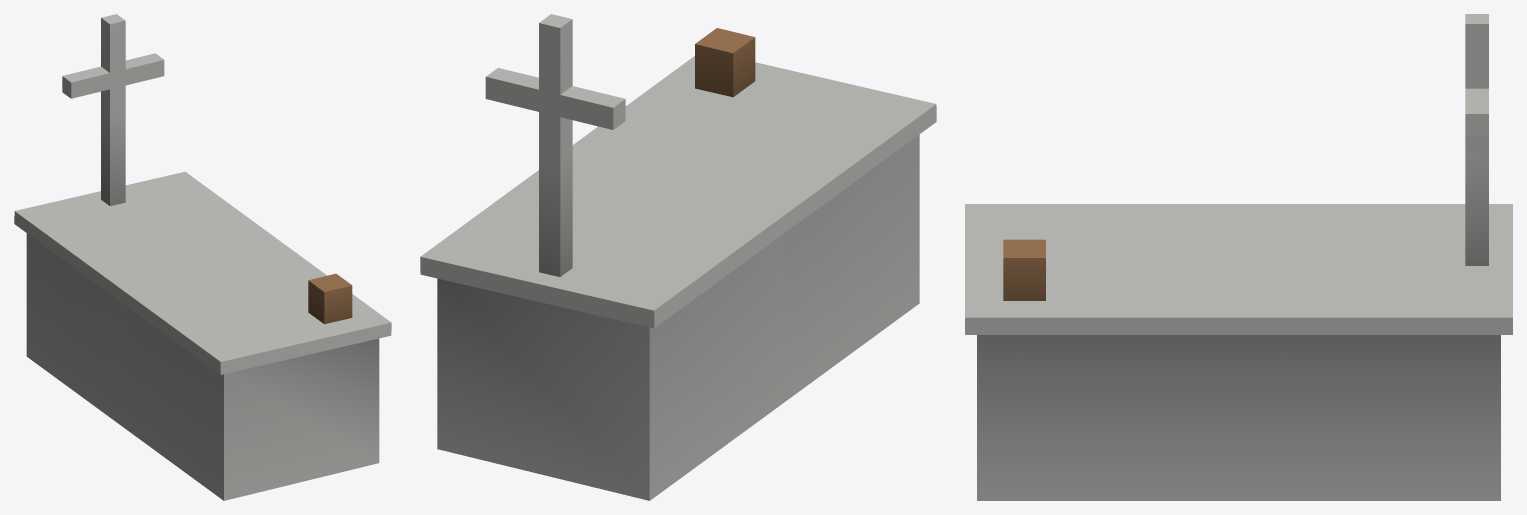
Rendered from tumulo_1.glb.
3 views of the same model, side by side, from view 1: azimuth 30°, elevation 25°; view 2: azimuth 150°, elevation 25°; view 3: azimuth 270°, elevation 25° (orthographic). The views are drawn at different scales.
Parts seen in each view (by area): view 1: tumulo, tampa, cruz, vaso; view 2: tumulo, tampa, cruz, vaso; view 3: tumulo, tampa, cruz, vaso.
Boxes of the visible parts, bbox=[...] form: tumulo: bbox=[26, 233, 379, 500]; tampa: bbox=[14, 171, 391, 374]; cruz: bbox=[62, 14, 164, 206]; vaso: bbox=[308, 273, 352, 324]; tumulo: bbox=[437, 134, 919, 500]; tampa: bbox=[420, 56, 936, 328]; cruz: bbox=[485, 14, 625, 276]; vaso: bbox=[695, 28, 755, 97]; tumulo: bbox=[977, 335, 1500, 500]; tampa: bbox=[965, 204, 1512, 334]; cruz: bbox=[1465, 14, 1488, 265]; vaso: bbox=[1003, 239, 1045, 300].
Size of what is drawn, in the model's own units: 1.1 by 2 by 2.3.
